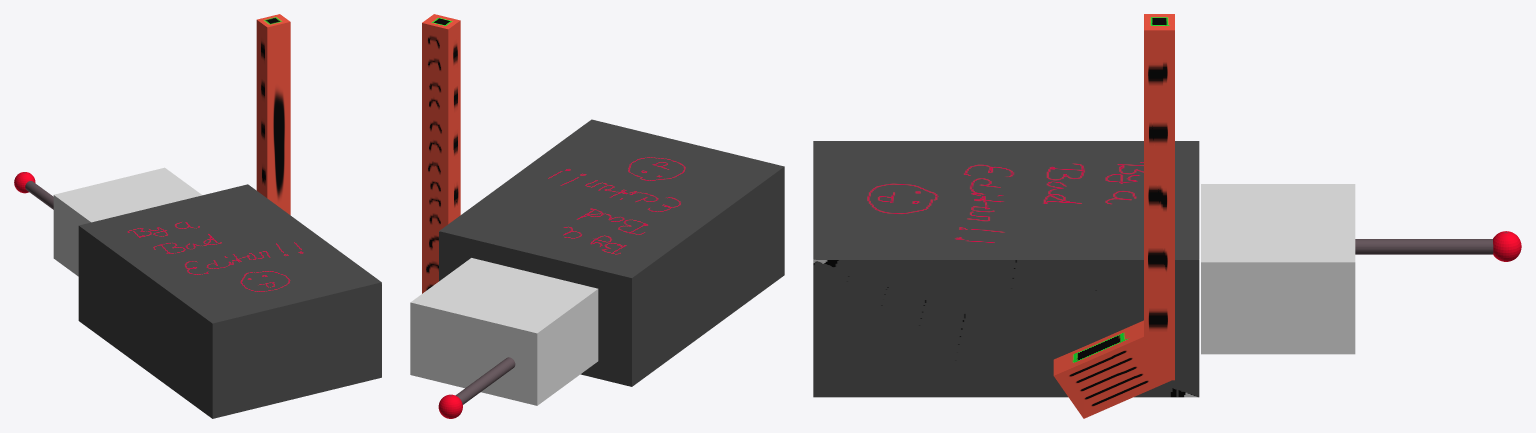
Rendered from Robot.dae.
3 renders of one model, left to right at view 1: azimuth 30°, elevation 25°; view 2: azimuth 150°, elevation 25°; view 3: azimuth 270°, elevation 25°, orthographic. The views are drawn at different scales.
Parts seen in each view (by area): view 1: Cube, Cube.002, Cube.001, Cylinder; view 2: Cube, Cube.001, Cube.002, Cylinder, Sphere; view 3: Cube, Cube.001, Cube.002, Cylinder, Sphere.
Part boxes in pixels (x1,y1,x2,y2): Cube: [78, 184, 381, 418]; Cube.002: [256, 14, 290, 214]; Cube.001: [53, 167, 202, 276]; Cylinder: [25, 181, 53, 209]; Cube: [439, 119, 784, 386]; Cube.001: [410, 258, 598, 405]; Cube.002: [422, 14, 460, 293]; Cylinder: [455, 357, 515, 404]; Sphere: [438, 394, 462, 418]; Cube: [813, 141, 1199, 397]; Cube.001: [1201, 184, 1355, 354]; Cube.002: [1053, 14, 1174, 418]; Cylinder: [1355, 239, 1493, 254]; Sphere: [1493, 231, 1521, 261].
Bounding box in the file's own units: 1.66 × 3.67 × 2.22.
